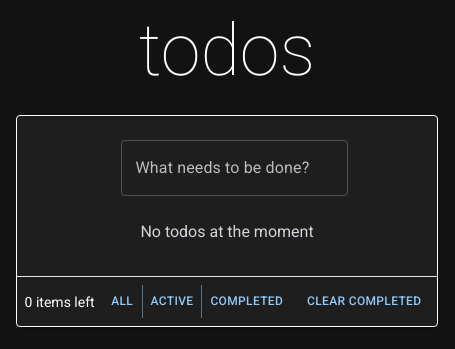
Scenario: Tasks tests › Add new task
The width and height of the screenshot is (455, 349).
Type "New task" into the field with test id "input-task".
click(235, 168); type("New task")  # box 122,140 -> 348,196
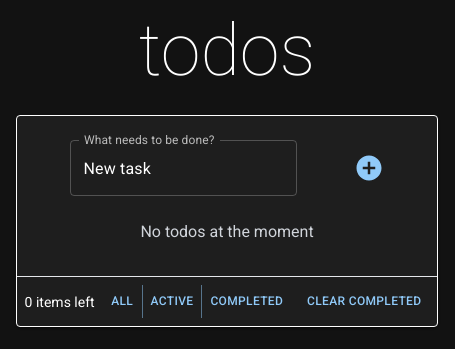
Click the button with test id "add-button".
click(369, 168)  # box 346,145 -> 392,191
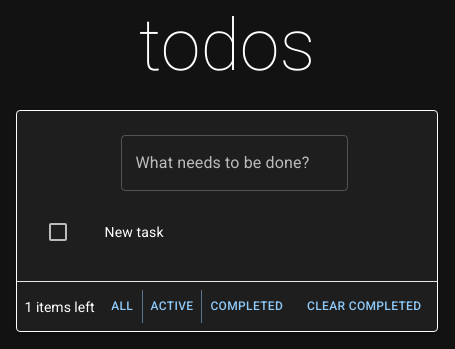
Now the text with test id "left-items" reads "1 items left", box 25,296 -> 95,316
Now the list with test id "task-list" is shown, box 46,220 -> 164,244
